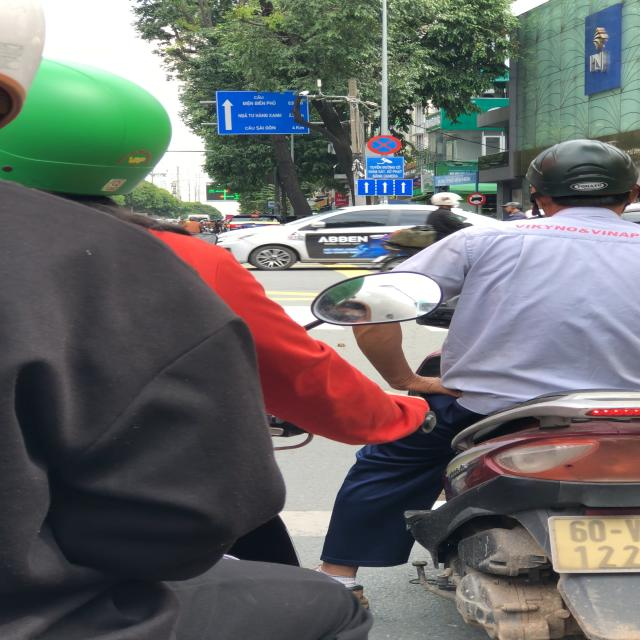Bien bao cam dung xe va do xe: (365, 134, 403, 156)
